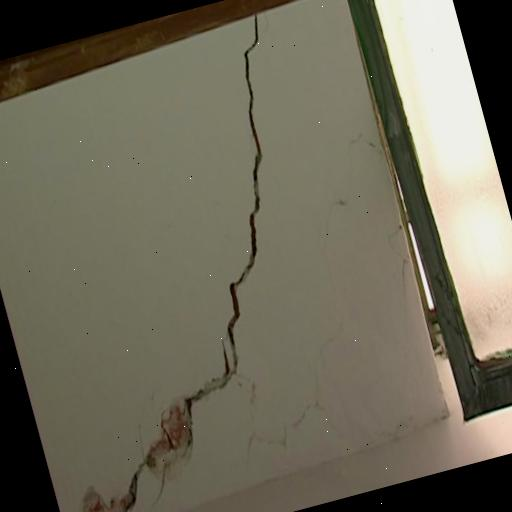spalling: (76, 16, 268, 512)
